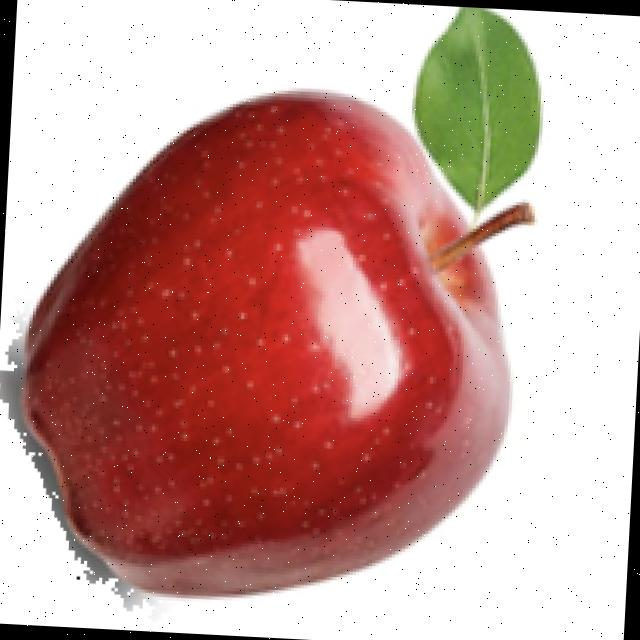apple: (0, 84, 540, 622)
